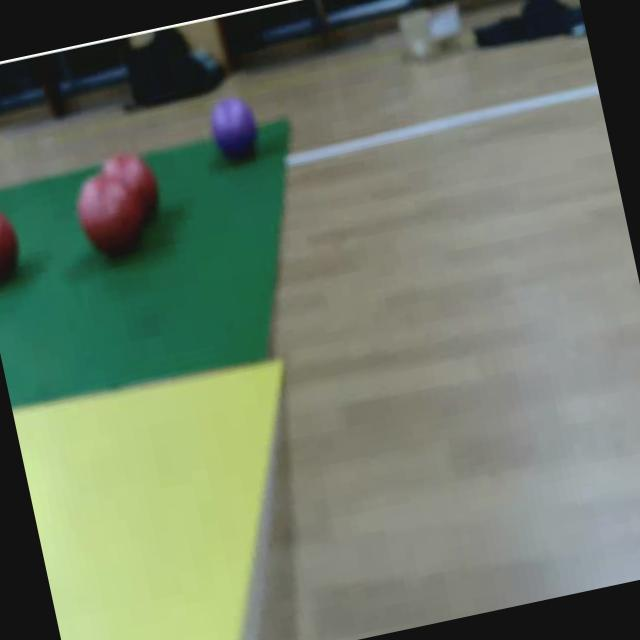purple_ball: (204, 90, 268, 173)
red_ball: (70, 166, 148, 265), (94, 146, 169, 230), (0, 194, 27, 288)
